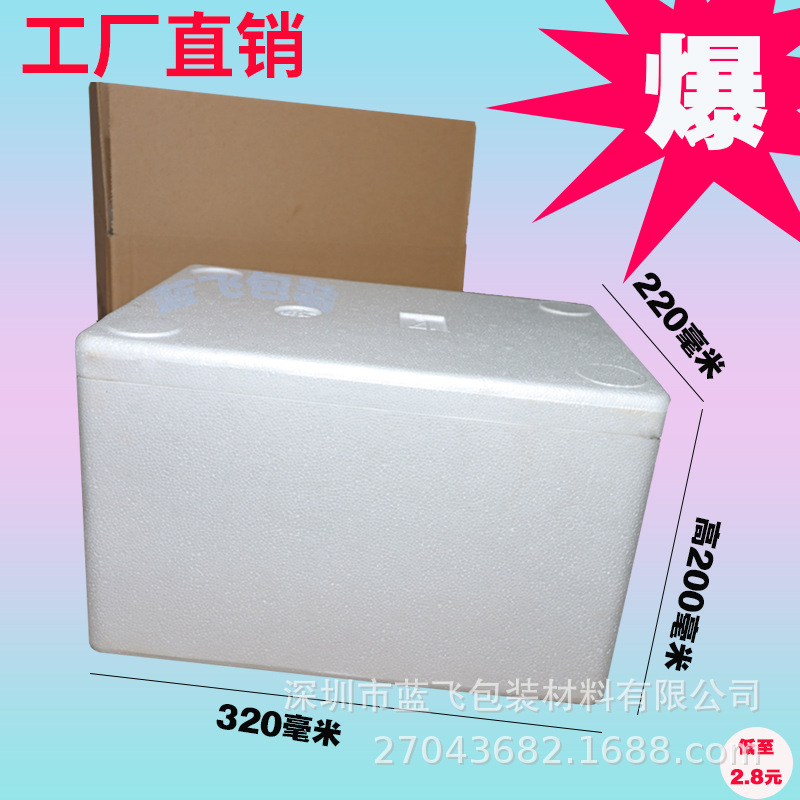Boxes: (76, 265, 669, 706)
